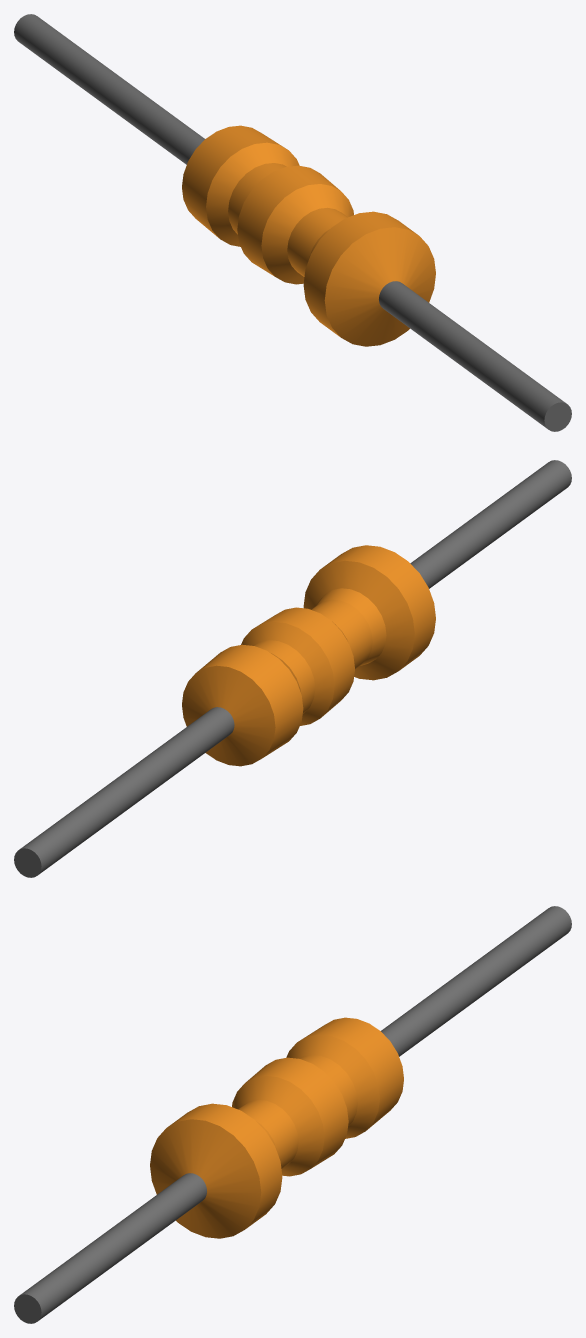
The picture shows the model from 3 angles, top to bottom: view 1: azimuth 30°, elevation 25°; view 2: azimuth 150°, elevation 25°; view 3: azimuth 330°, elevation 25°; orthographic projection.
Parts seen in each view (by area): view 1: bulges, shaft; view 2: bulges, shaft; view 3: bulges, shaft.
Part boxes in pixels (box(x1,y1,x2,y2)): bulges: box(182, 125, 435, 346); shaft: box(14, 14, 571, 431); bulges: box(182, 545, 435, 766); shaft: box(14, 460, 571, 877); bulges: box(150, 1017, 403, 1238); shaft: box(14, 906, 571, 1323).
Size of the model in its own units: 0.00121 by 0.00121 by 0.01.
